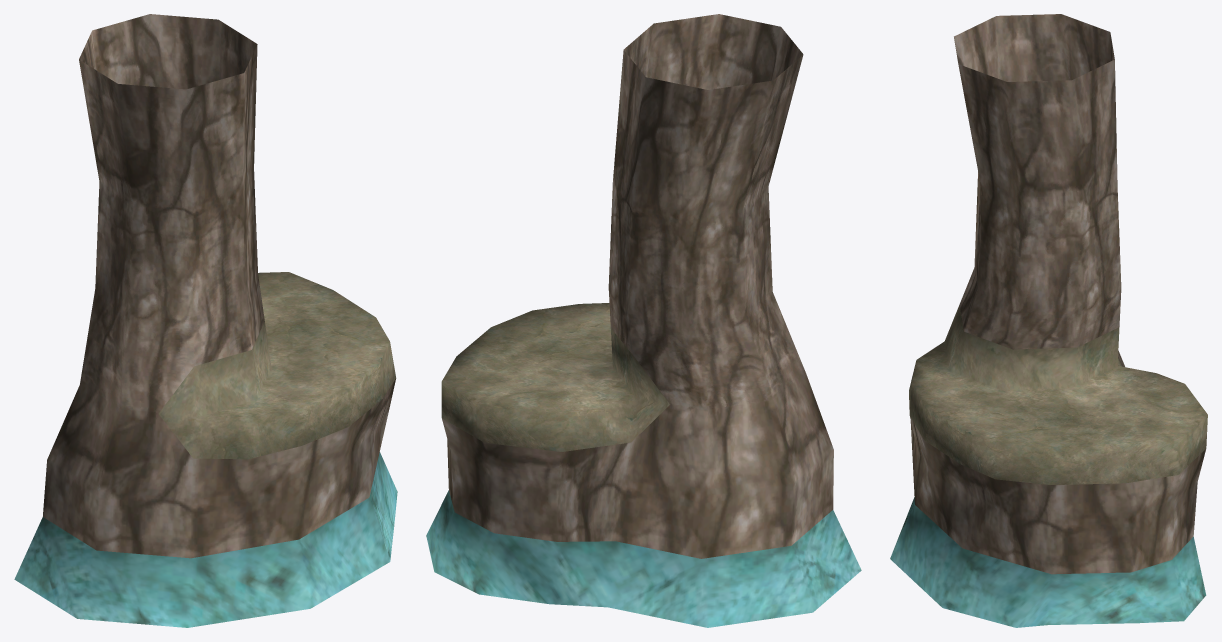
The model's file is EKH_CAVERNS_PS_CA_PLAT_4894873__GX.fbx.
The picture shows the model from 3 angles, left to right: view 1: azimuth 30°, elevation 25°; view 2: azimuth 150°, elevation 25°; view 3: azimuth 270°, elevation 25°; orthographic projection. The views are drawn at different scales.
Visible parts, largest first — view 1: EKH_CAVERNS_PS_CA_PLAT_4894873__GX; view 2: EKH_CAVERNS_PS_CA_PLAT_4894873__GX; view 3: EKH_CAVERNS_PS_CA_PLAT_4894873__GX.
Part boxes in pixels (x1=…): EKH_CAVERNS_PS_CA_PLAT_4894873__GX: x1=14, y1=14, x2=397, y2=627; EKH_CAVERNS_PS_CA_PLAT_4894873__GX: x1=426, y1=14, x2=861, y2=627; EKH_CAVERNS_PS_CA_PLAT_4894873__GX: x1=890, y1=14, x2=1207, y2=627.
Bounding box in the file's own units: 73421 × 99480 × 59560.
Materials: 3 (3 with a texture image).
